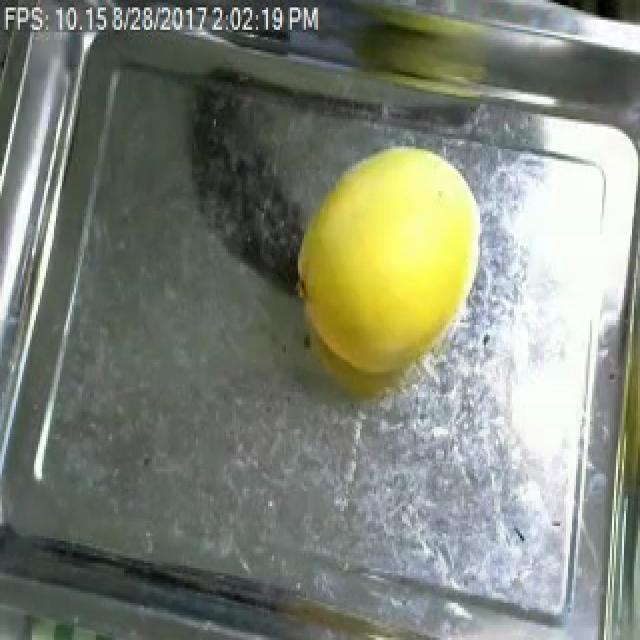fruit: (270, 119, 512, 407)
